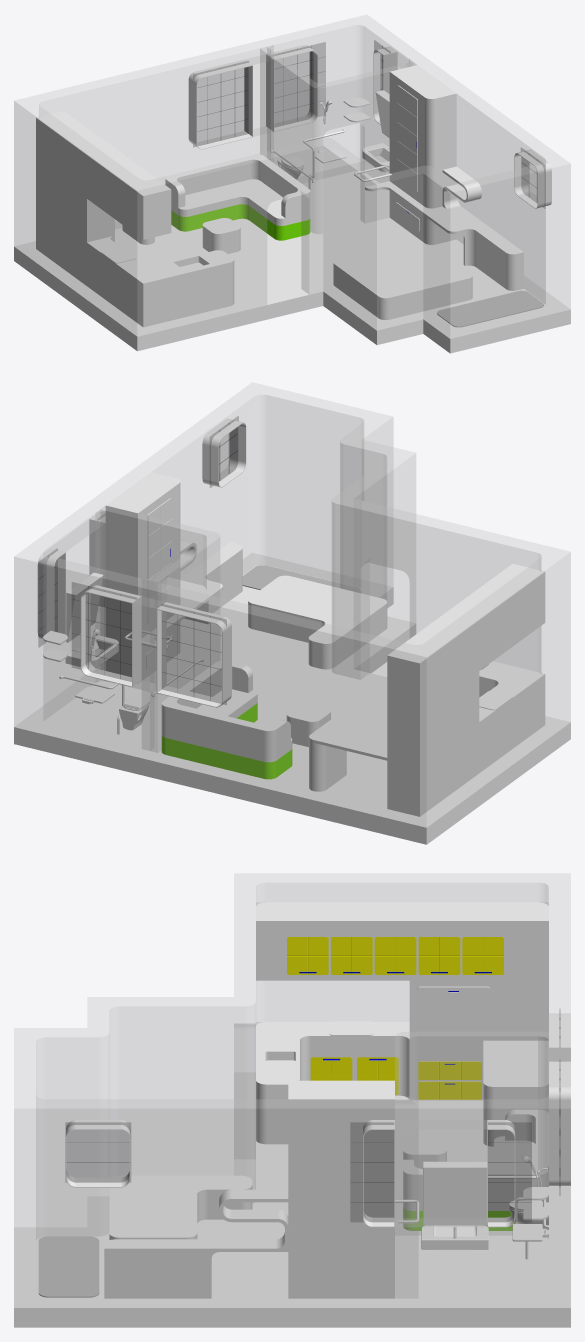
Rendered from mobility typeA OptionA.glb.
3 renders of one model, top to bottom at view 1: azimuth 30°, elevation 25°; view 2: azimuth 150°, elevation 25°; view 3: azimuth 270°, elevation 25°, orthographic. The views are drawn at different scales.
Parts seen in each view (by area): view 1: 墙面, floor, 橱柜，木制或者整体性强的材质, 衣柜，木制或者整体性强的材质, 玻璃, 窗框（金属）, 沙发（软包，软垫，皮纹细腻）, 木板, 床（软包，软垫，皮纹细腻）, 衣柜柜门（木板）, 床（硬边）, 瑜伽垫（软材质） (+6 smaller); view 2: 墙面, floor, 橱柜，木制或者整体性强的材质, 窗框（金属）, 玻璃, 衣柜，木制或者整体性强的材质, 沙发（软包，软垫，皮纹细腻）, 床（软包，软垫，皮纹细腻）, 木板, 客厅桌子（木板）, 衣柜柜门（木板）, 床（硬边） (+7 smaller); view 3: 墙面, floor, 橱柜，木制或者整体性强的材质, 衣柜，木制或者整体性强的材质, 柜门，区别于整体的柜子, 玻璃, 木板, 窗框（金属）, 床（软包，软垫，皮纹细腻）, 沙发（软包，软垫，皮纹细腻）, 客厅桌子（木板）, 镜子（玻璃 (+11 smaller).
Part boxes in pixels (x1,y1,x2,y2): 墙面: (14, 15, 570, 338); floor: (14, 160, 570, 353); 橱柜，木制或者整体性强的材质: (36, 111, 234, 327); 衣柜，木制或者整体性强的材质: (389, 65, 456, 244); 玻璃: (193, 40, 541, 202); 窗框（金属）: (188, 45, 551, 208); 沙发（软包，软垫，皮纹细腻）: (165, 154, 310, 225); 木板: (365, 166, 523, 290); 床（软包，软垫，皮纹细腻）: (333, 254, 472, 305); 衣柜柜门（木板）: (395, 85, 419, 231); 床（硬边）: (333, 270, 472, 319); 瑜伽垫（软材质）: (437, 290, 543, 327); 墙面: (14, 382, 570, 827); floor: (14, 552, 570, 844); 橱柜，木制或者整体性强的材质: (387, 564, 545, 816); 窗框（金属）: (37, 418, 246, 707); 玻璃: (38, 416, 238, 704); 衣柜，木制或者整体性强的材质: (105, 472, 180, 683); 沙发（软包，软垫，皮纹细腻）: (161, 660, 292, 762); 床（软包，软垫，皮纹细腻）: (248, 575, 387, 652); 木板: (142, 539, 242, 650); 客厅桌子（木板）: (309, 719, 387, 791); 衣柜柜门（木板）: (146, 498, 173, 668); 床（硬边）: (248, 609, 387, 669); 墙面: (14, 873, 570, 1307); floor: (14, 1072, 570, 1327); 橱柜，木制或者整体性强的材质: (256, 902, 548, 1144); 衣柜，木制或者整体性强的材质: (288, 1080, 394, 1298); 柜门，区别于整体的柜子: (287, 937, 503, 1099); 玻璃: (65, 1018, 560, 1221); 木板: (104, 1189, 288, 1298); 窗框（金属）: (66, 1013, 570, 1227); 床（软包，软垫，皮纹细腻）: (109, 1175, 252, 1239); 沙发（软包，软垫，皮纹细腻）: (403, 1109, 548, 1210); 客厅桌子（木板）: (483, 1040, 548, 1146); 镜子（玻璃: (423, 1161, 487, 1225).
Size of the model in its own units: 7.6 by 3.3 by 7.6.
